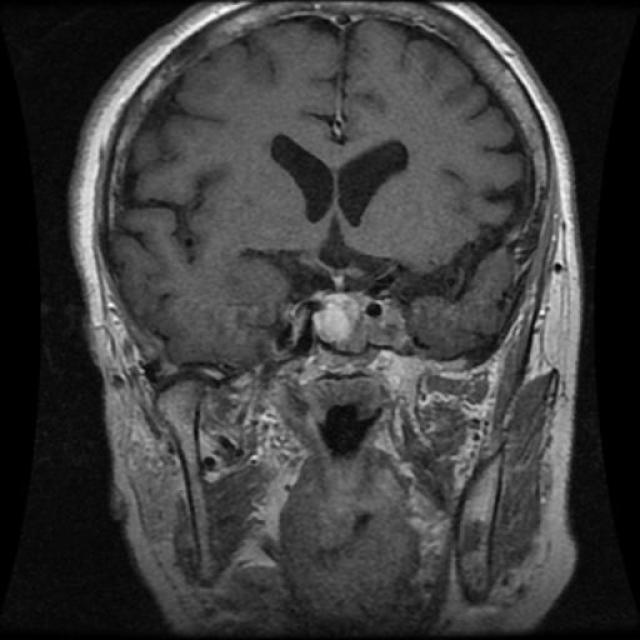pituitary: (288, 257, 390, 357)
